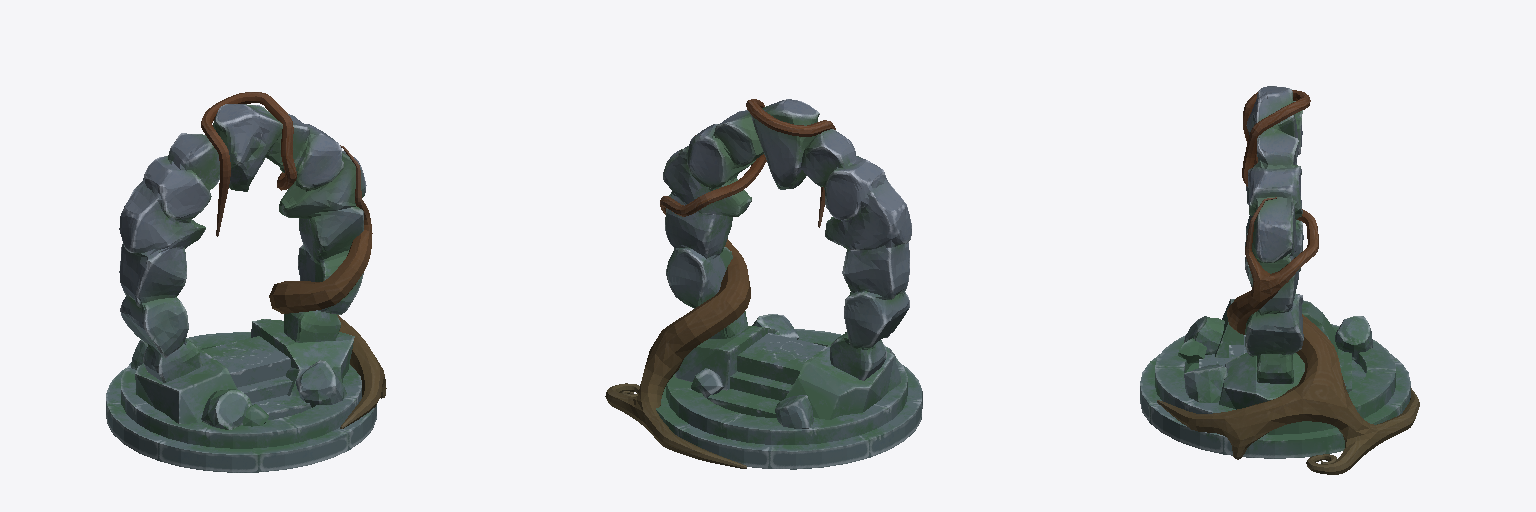
The picture shows the model from 3 angles: view 1: azimuth 30°, elevation 25°; view 2: azimuth 150°, elevation 25°; view 3: azimuth 270°, elevation 25°; orthographic projection.
Parts seen in each view (by area): view 1: Arc_UMesh_Cube14.001_0, platform__0, tree__0, PreArc__0, Stupeni__0, LOW_Cube_012.001_0; view 2: Arc_UMesh_Cube14.001_0, platform__0, tree__0, PreArc__0, Stupeni__0, LOW_Cube_012.001_0; view 3: tree__0, Arc_UMesh_Cube14.001_0, platform__0, LOW_Cube_012.001_0, PreArc__0, Stupeni__0.
Boxes of the visible parts, x1=… form: Arc_UMesh_Cube14.001_0: x1=119, y1=104, x2=366, y2=382; platform__0: x1=106, y1=332, x2=376, y2=472; tree__0: x1=201, y1=92, x2=386, y2=428; PreArc__0: x1=135, y1=319, x2=354, y2=423; Stupeni__0: x1=203, y1=336, x2=311, y2=419; LOW_Cube_012.001_0: x1=131, y1=340, x2=347, y2=429; Arc_UMesh_Cube14.001_0: x1=663, y1=99, x2=911, y2=380; platform__0: x1=656, y1=329, x2=922, y2=469; tree__0: x1=605, y1=99, x2=835, y2=468; PreArc__0: x1=675, y1=326, x2=901, y2=419; Stupeni__0: x1=708, y1=333, x2=825, y2=417; LOW_Cube_012.001_0: x1=691, y1=314, x2=895, y2=428; tree__0: x1=1157, y1=90, x2=1419, y2=474; Arc_UMesh_Cube14.001_0: x1=1245, y1=86, x2=1303, y2=383; platform__0: x1=1140, y1=324, x2=1410, y2=458; LOW_Cube_012.001_0: x1=1178, y1=316, x2=1372, y2=402; PreArc__0: x1=1215, y1=299, x2=1337, y2=409; Stupeni__0: x1=1199, y1=335, x2=1351, y2=392.
Size of the model in its own units: 38.62 by 42.86 by 34.76.
3 materials, 1 textured.